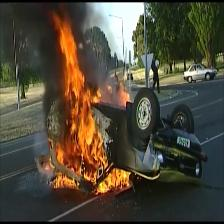fire: (44, 14, 131, 195), (120, 83, 132, 108)
